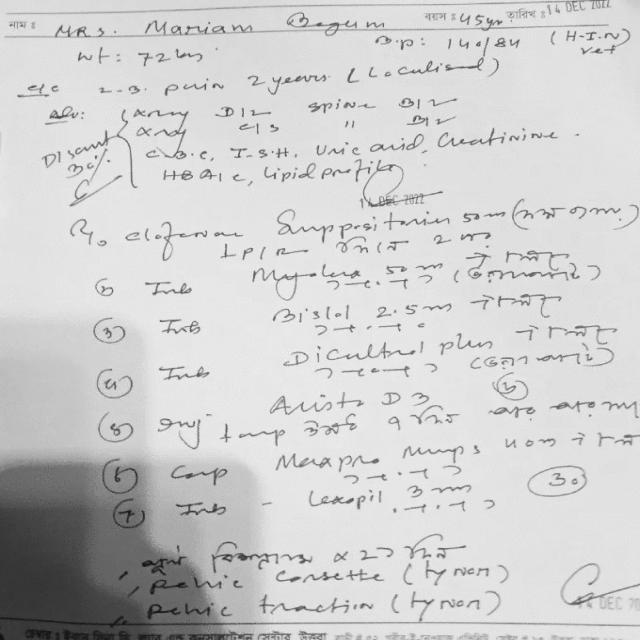medicine: (276, 334, 492, 363), (272, 446, 483, 468), (118, 223, 245, 246), (246, 260, 364, 282), (264, 392, 366, 415), (303, 487, 390, 510), (267, 303, 354, 326)
